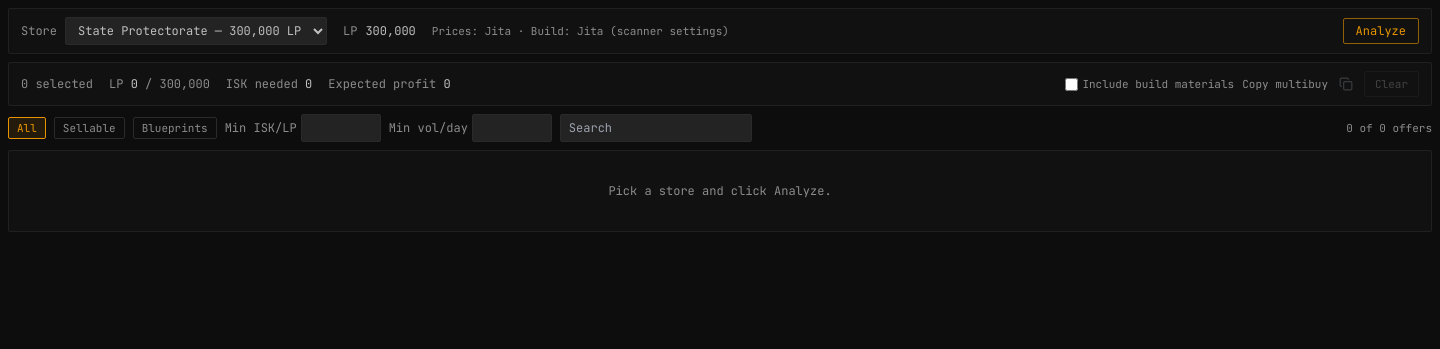
LPStoreTab › hides offers that trade less than the minimum volume, including ones with none
Click the button "Analyze" at x=1381, y=31, box [1343,18,1419,44]
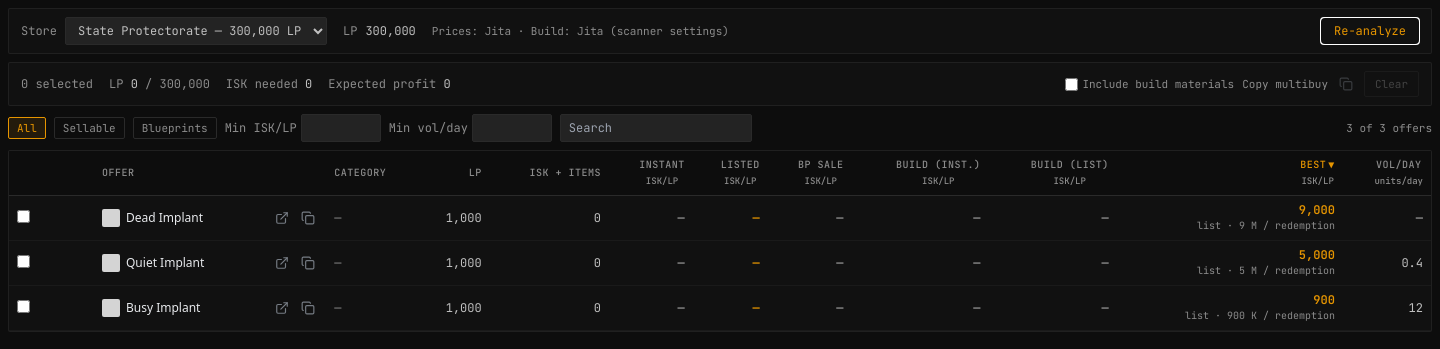
Check: the text "Quiet Implant" is shown, box [126,254,204,271]
Type "1" into the number field labelled "Min vol/day" at x=512, y=128, box [472,114,552,142]
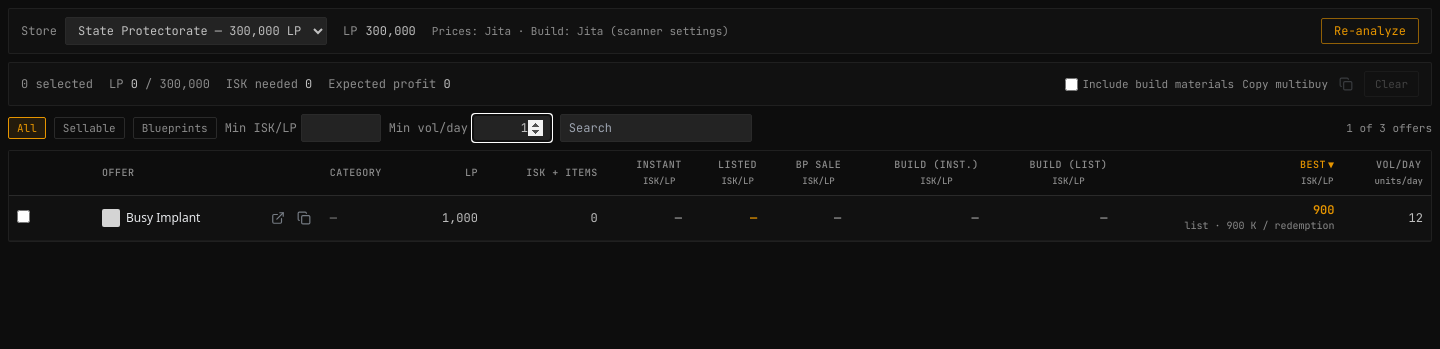
Check: the text "Busy Implant" is shown, box [126,209,200,226]
Check: the text "Quiet Implant" is gone
Check: the text "Dead Implant" is gone
